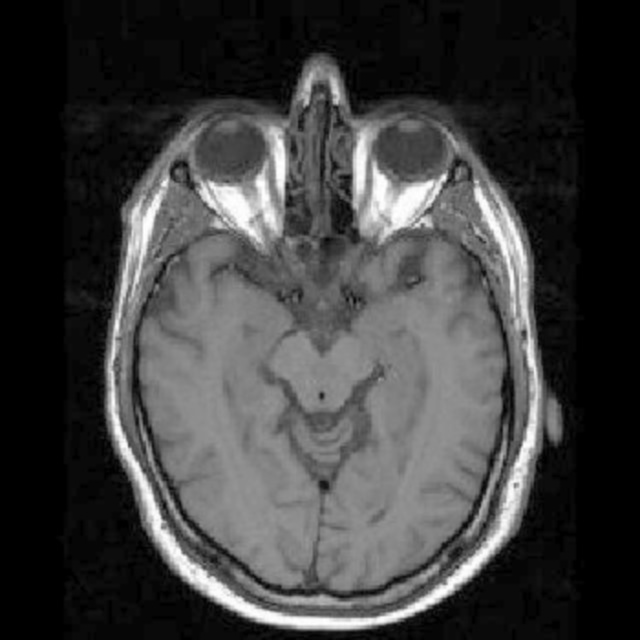glioma tumor: (188, 159, 454, 565)
